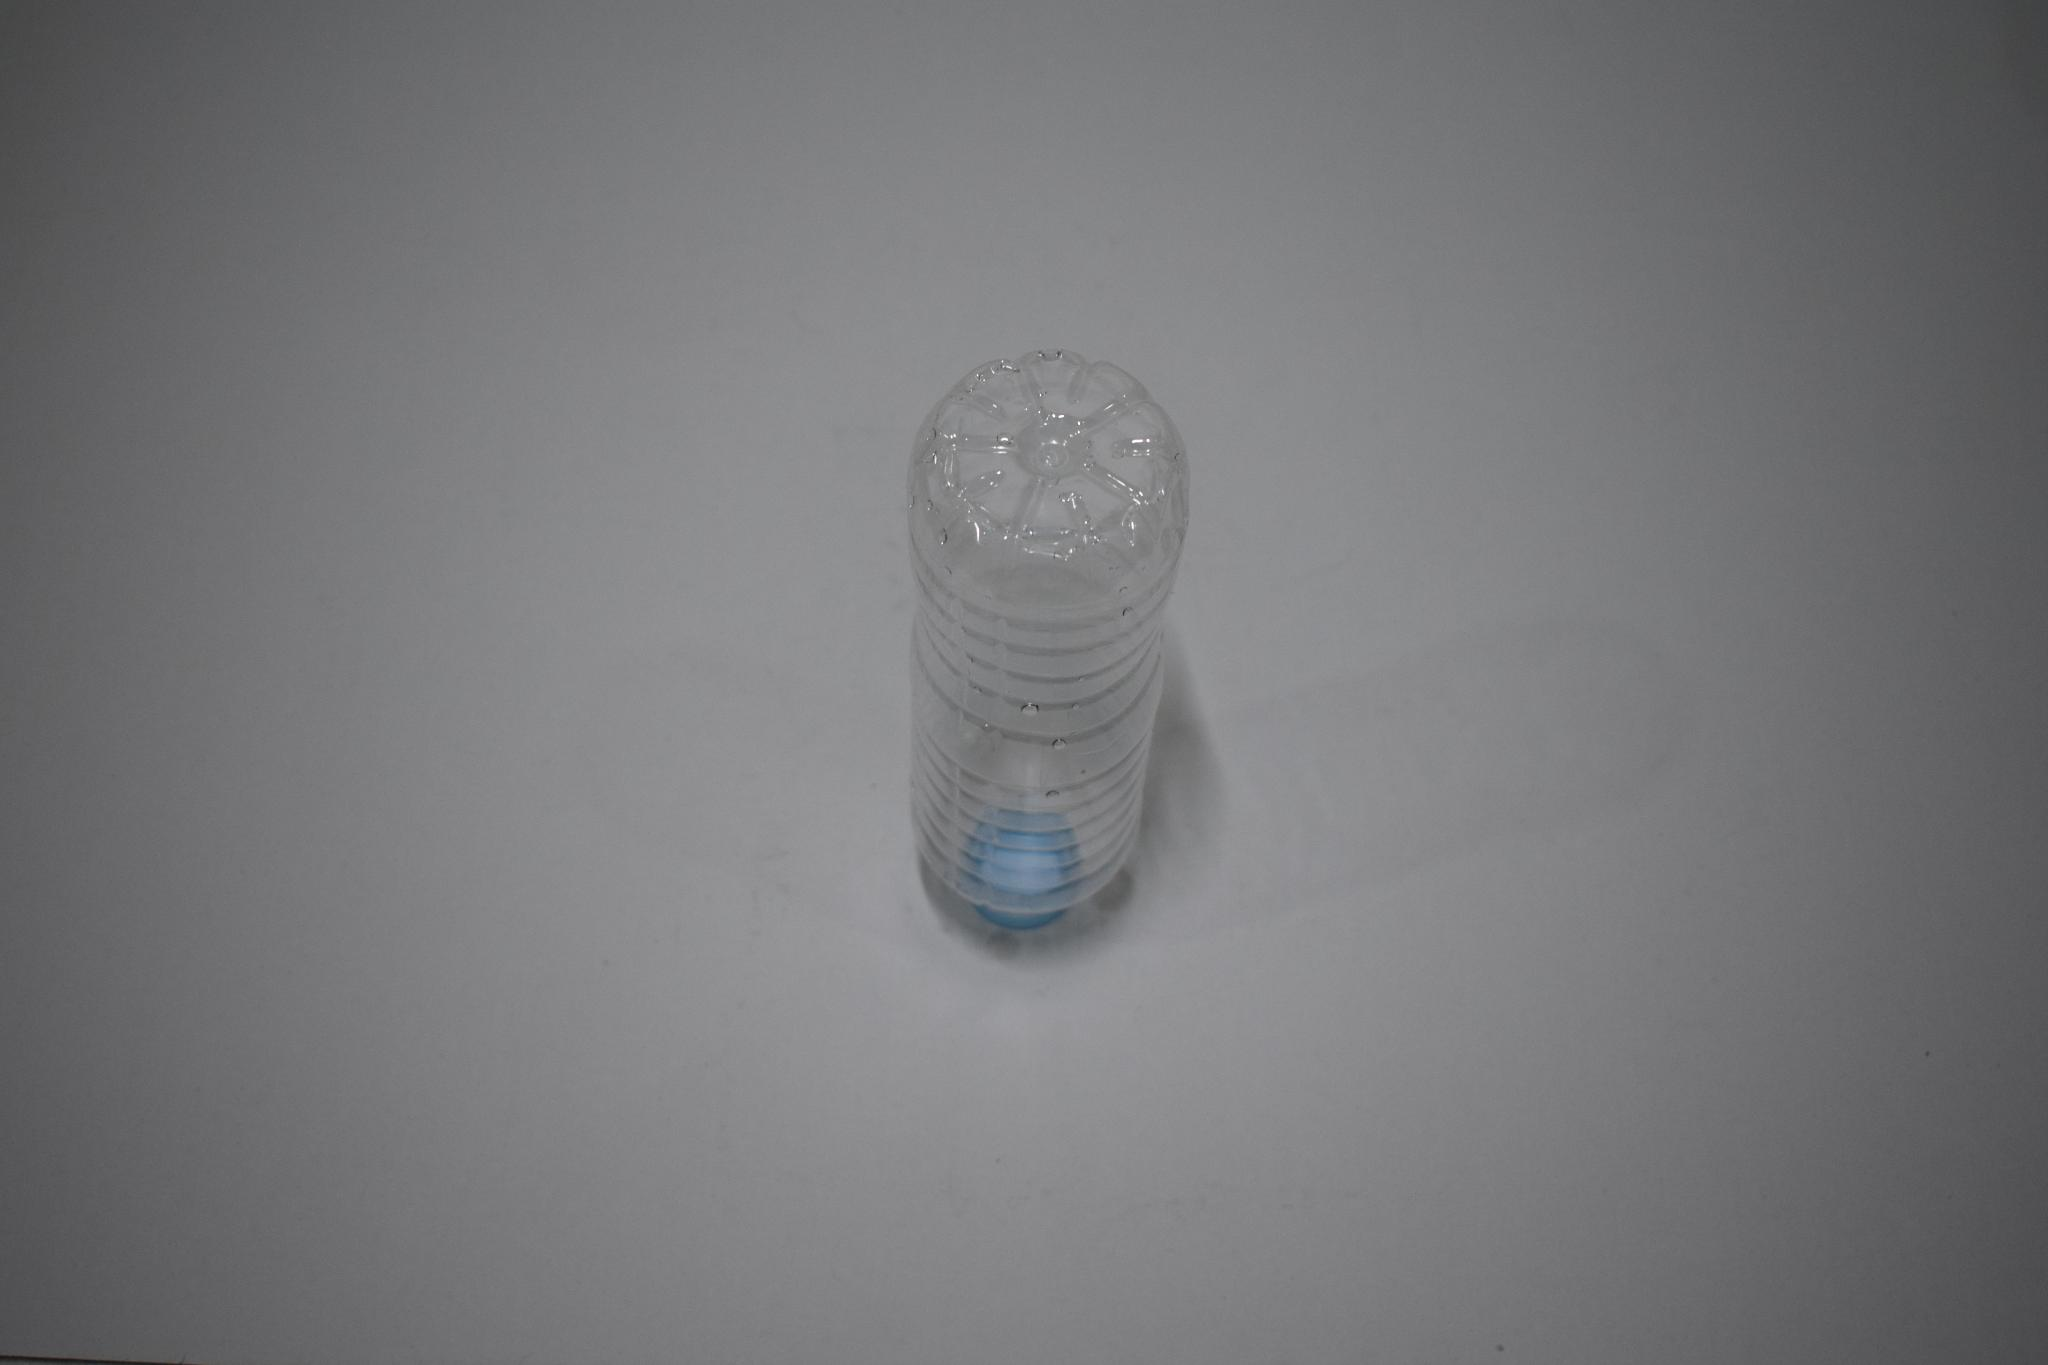bottle: (862, 331, 1221, 955)
